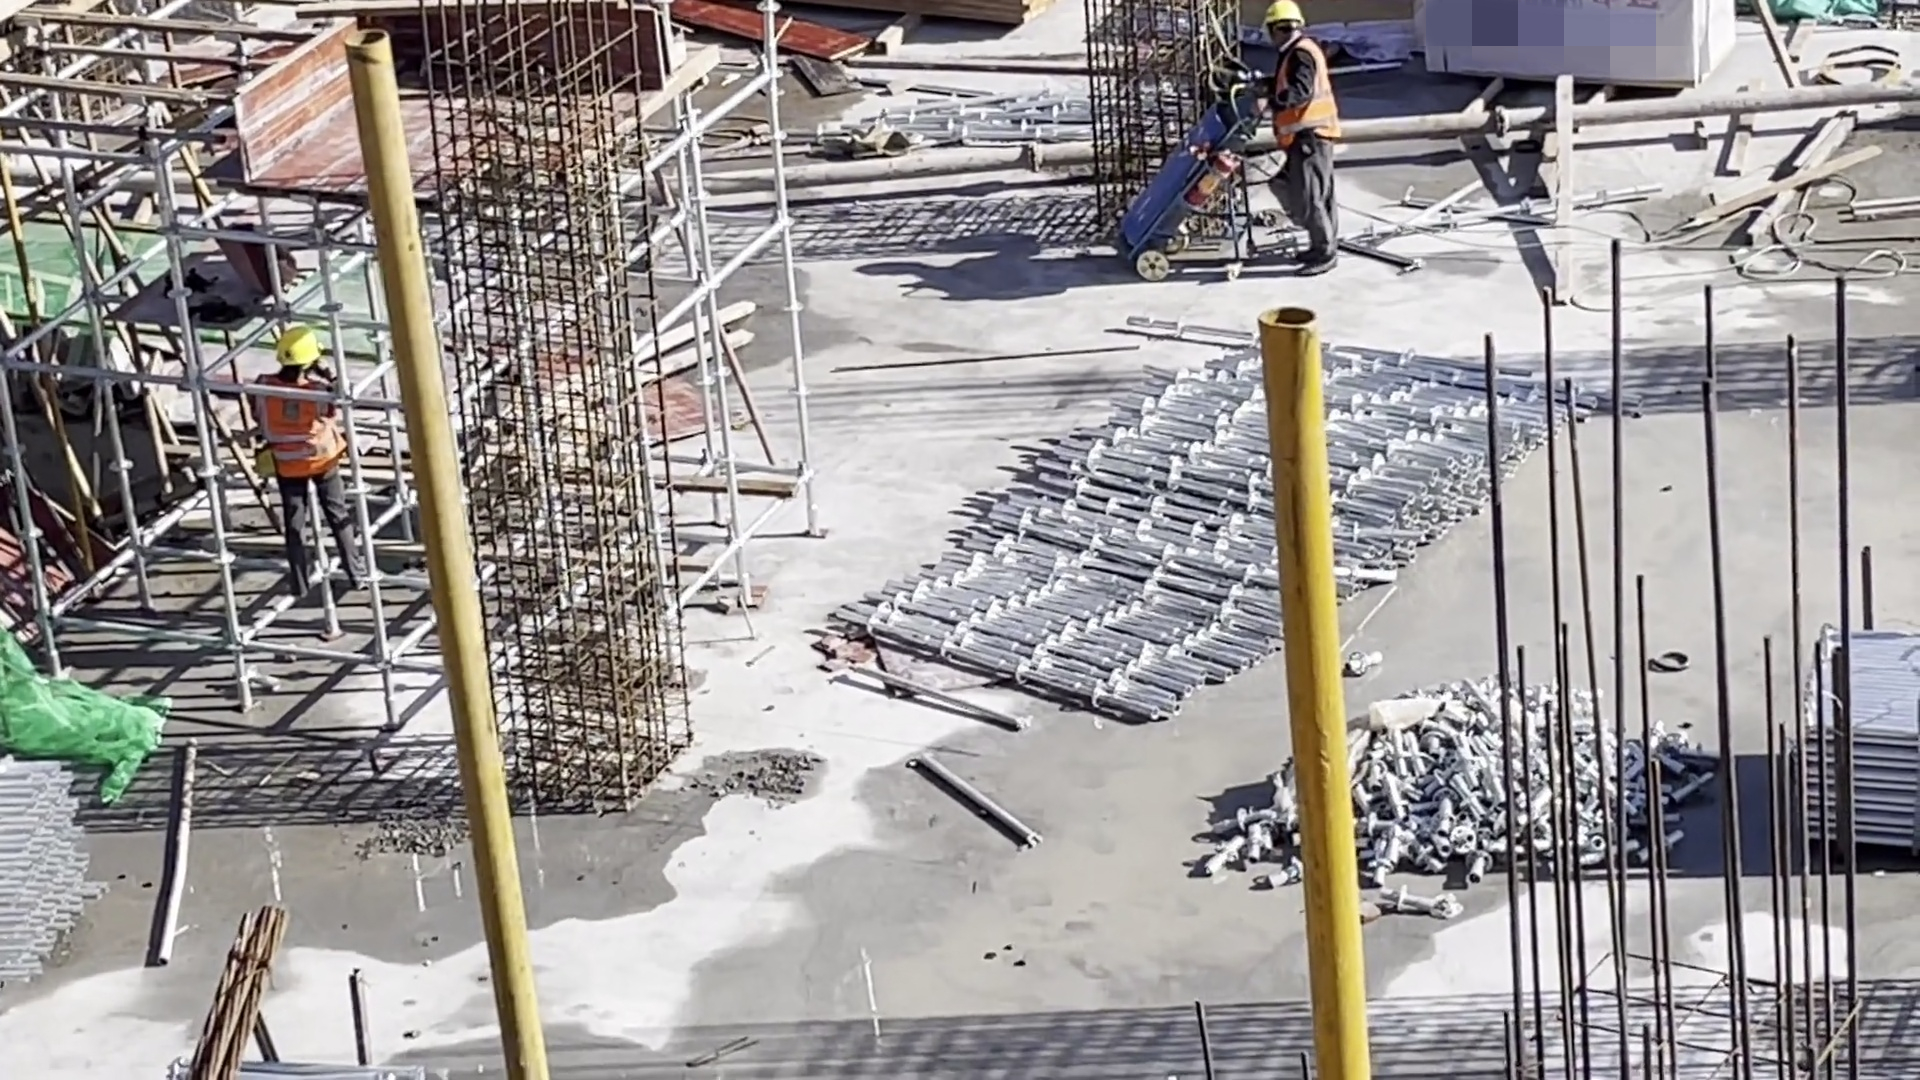helmet: (278, 323, 324, 369), (1267, 2, 1304, 35)
person: (254, 323, 374, 602), (1251, 2, 1348, 276)
vest: (258, 372, 350, 472), (1276, 42, 1340, 146)
